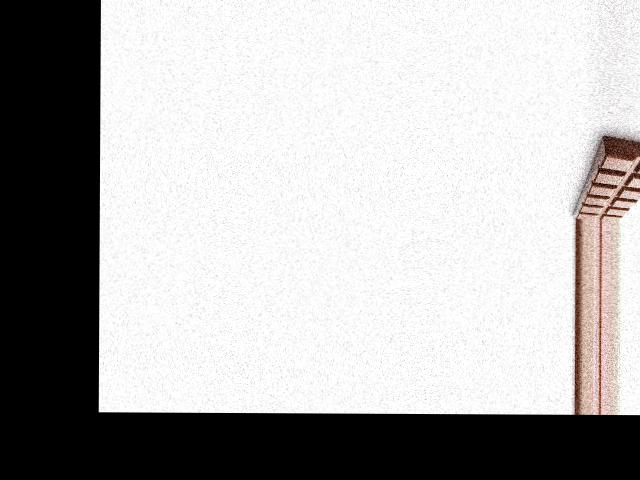chocolate: (566, 133, 640, 218)
